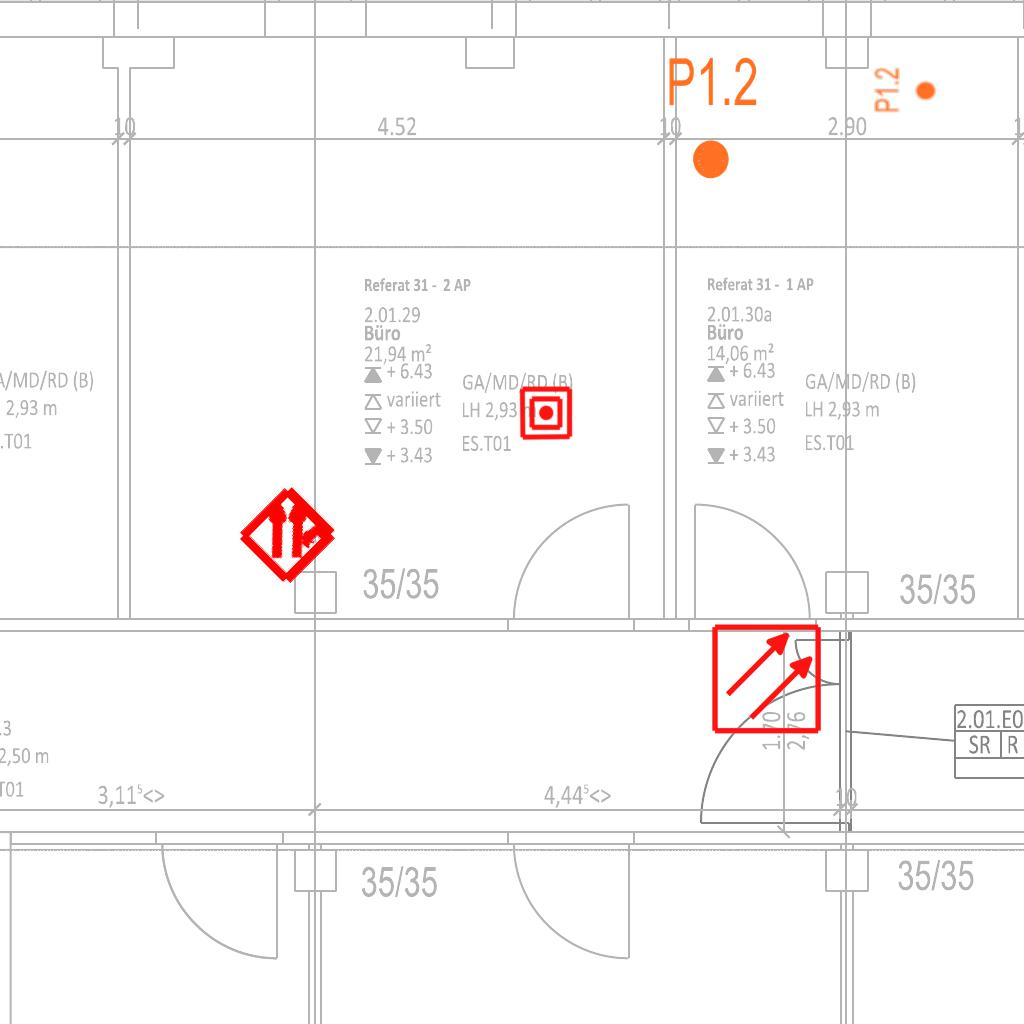Downlight_LED_Einbauleuchten_Flur: (666, 54, 759, 182), (873, 67, 937, 113)
NAM-Nichtautomatischer_Melder: (518, 385, 574, 441)
OT_Multisensormelder_(Kombination_RMO_WMD): (209, 453, 370, 614)
RMO_Rauchmelder_optischer: (710, 622, 823, 735)
